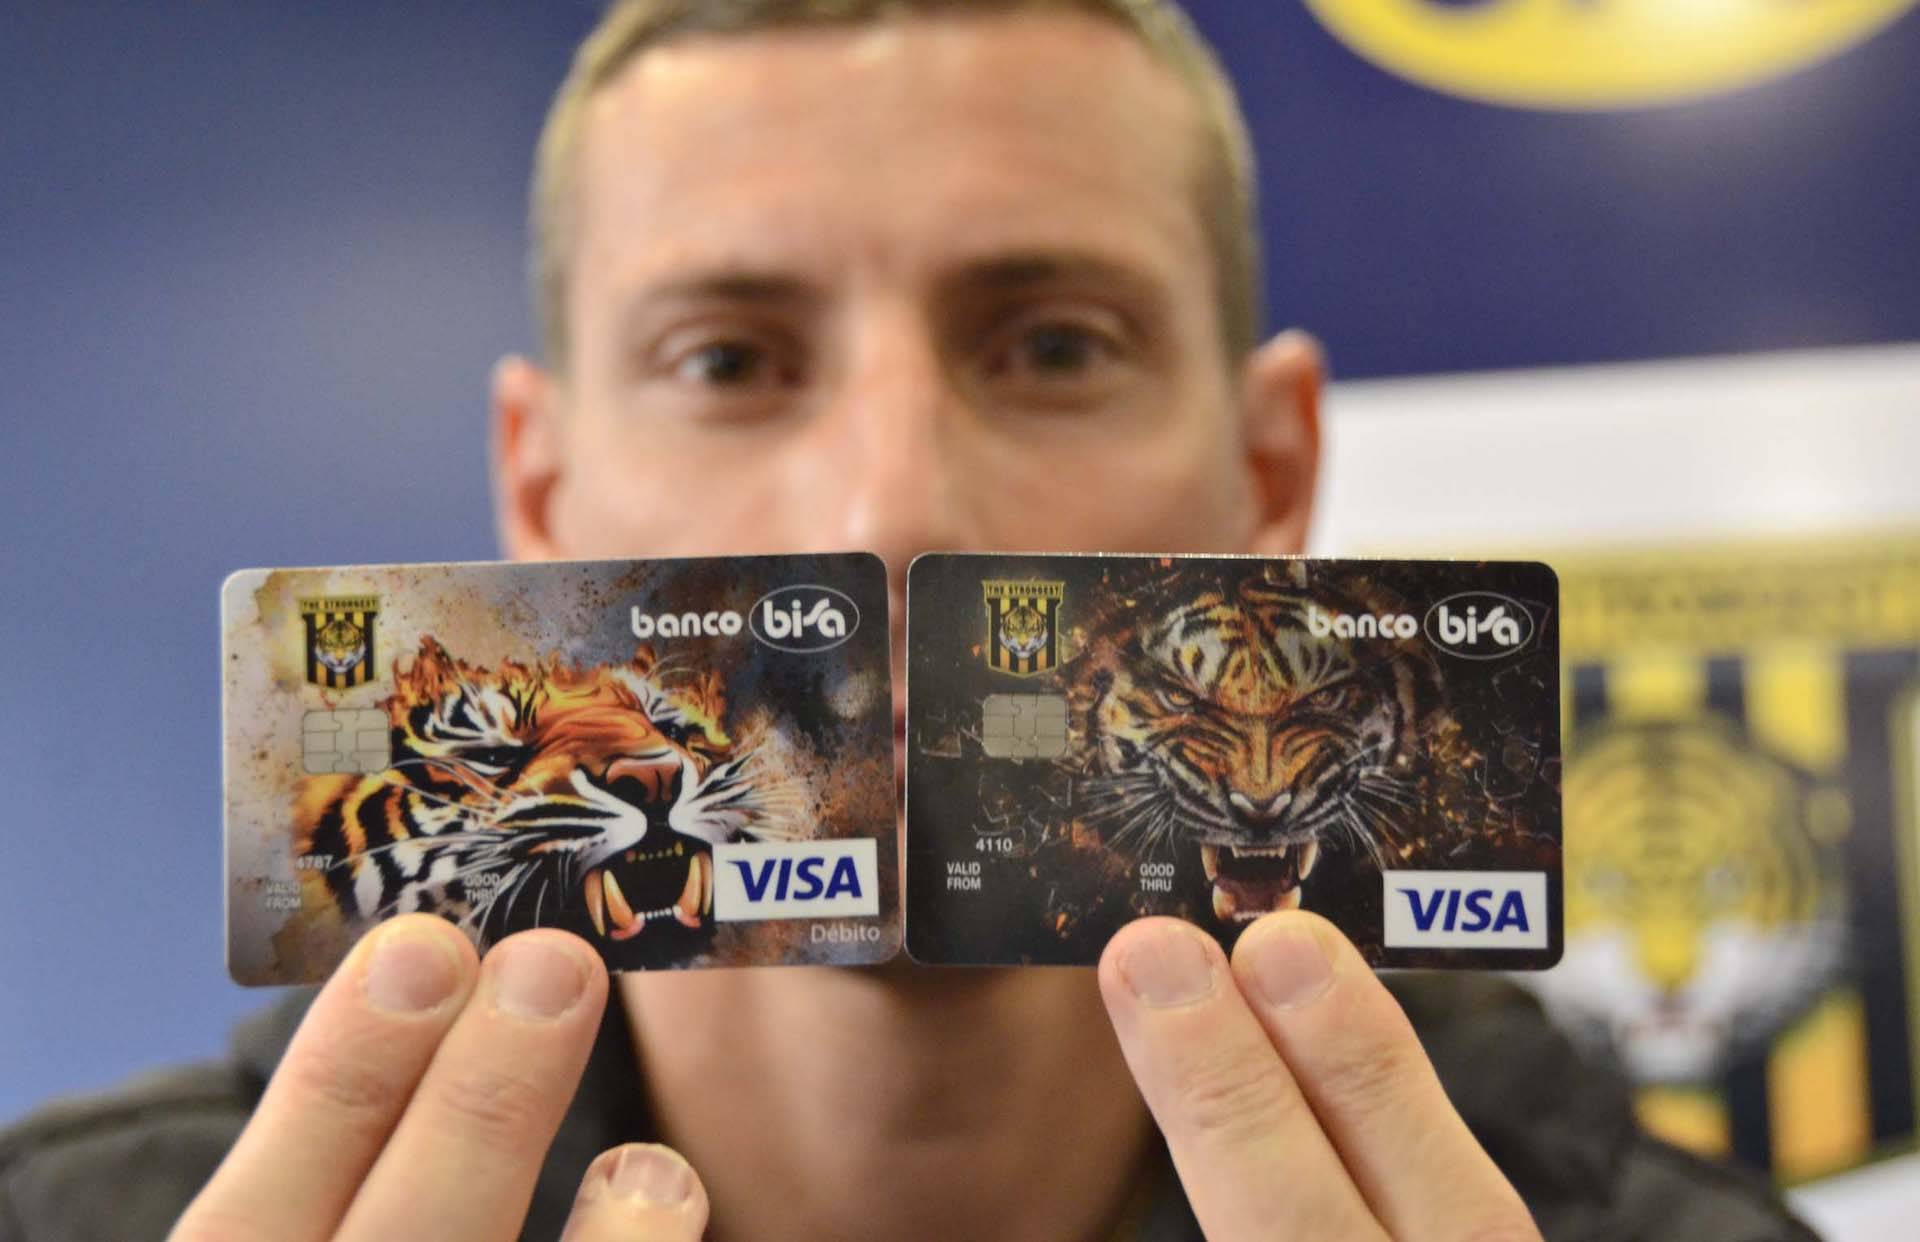tarjeta: (216, 551, 905, 987), (905, 551, 1567, 978)
